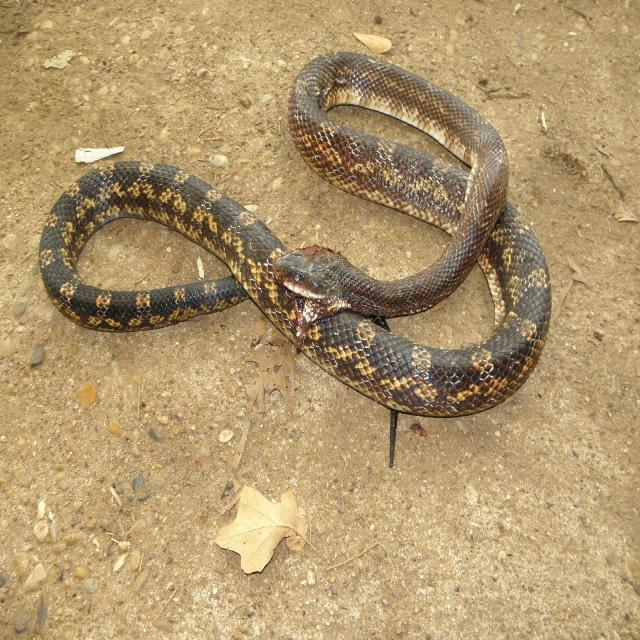Snake: (22, 27, 608, 430)
